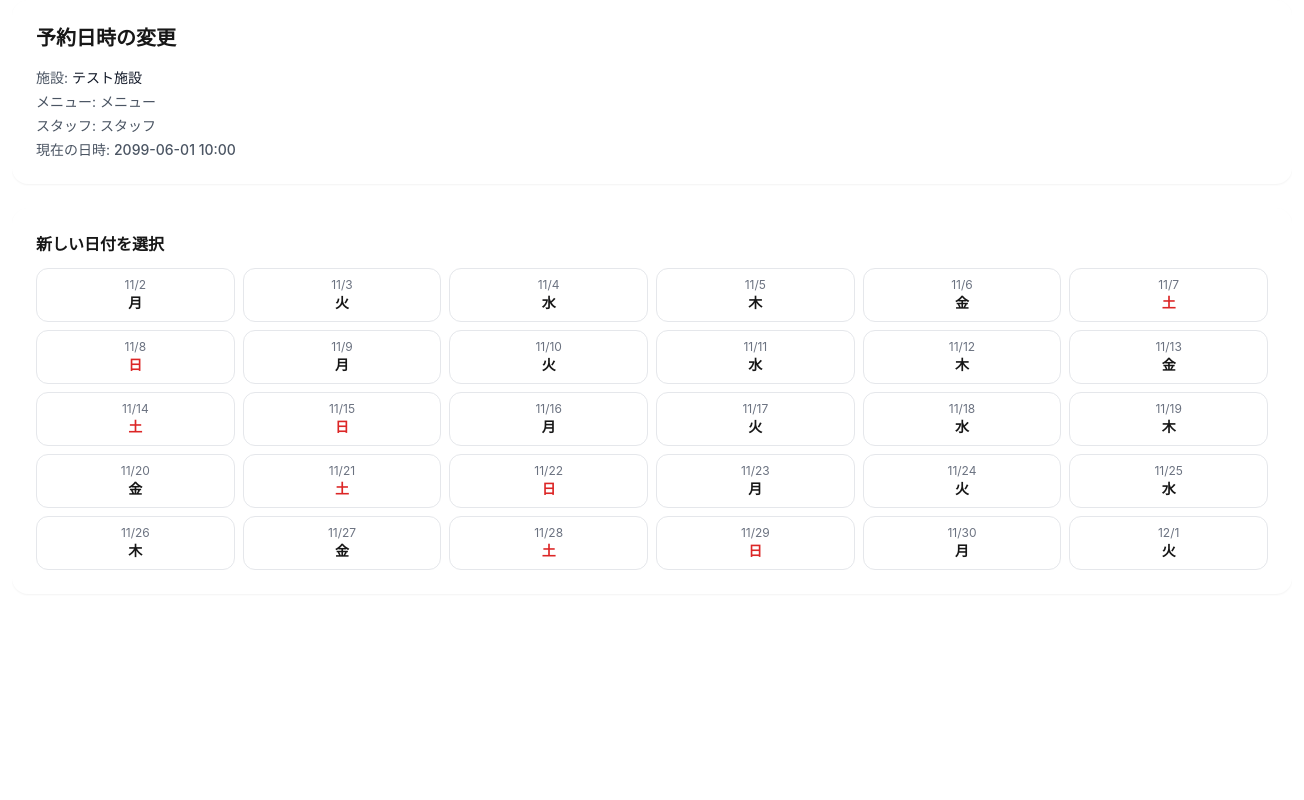
it: 指名予約 › 翌日に終了する変更候補は確定前に終了時刻を表示する
Expected: the heading "新しい日付を選択" is shown, top-left (36, 234), bottom-right (164, 254)
Click the button "11/3 火" at (342, 295), box top-left (243, 268), bottom-right (441, 322)
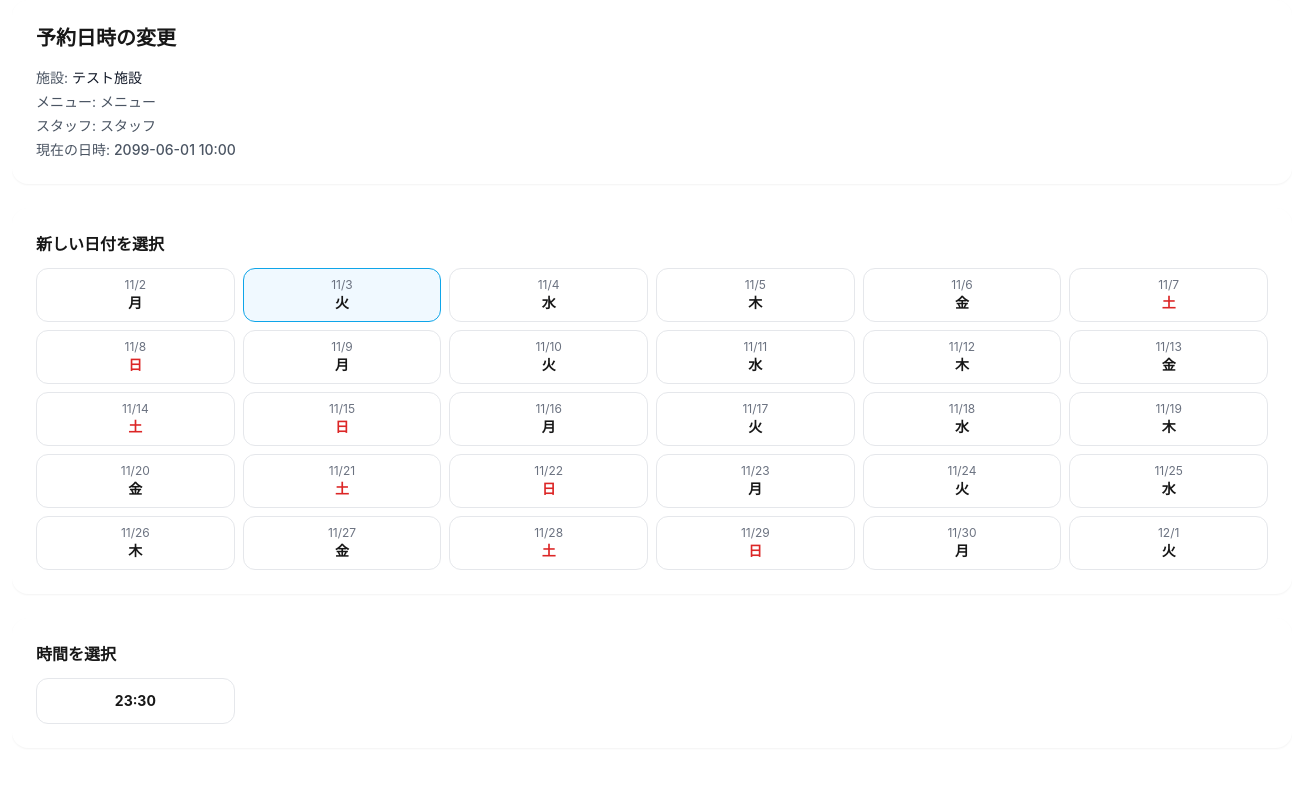
Click the button "23:30" at (135, 701), box top-left (36, 678), bottom-right (235, 724)
(page scrolled)
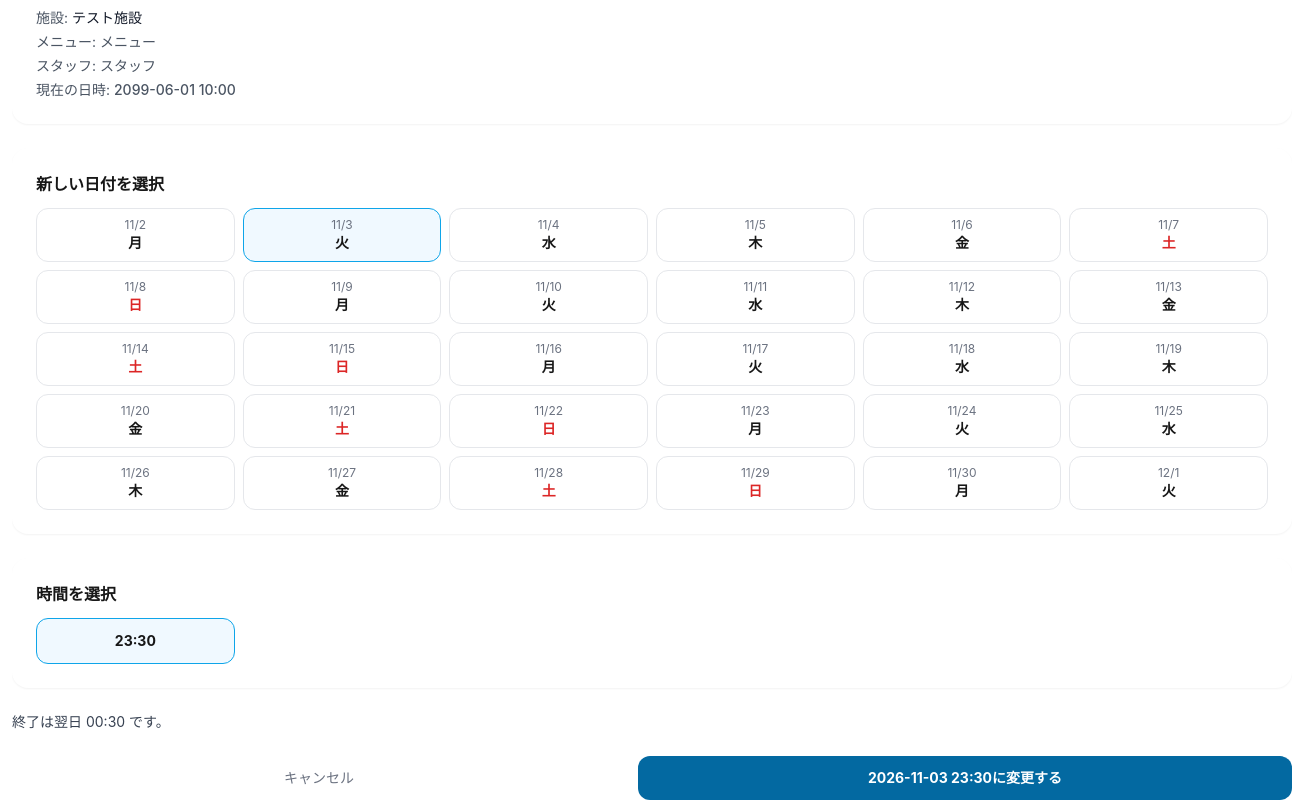
Now the text "終了は翌日 00:30 です。" is shown, box top-left (12, 713), bottom-right (170, 730)
Now the button "2026-11-03 23:30に変更する" is shown, box top-left (638, 756), bottom-right (1292, 799)
